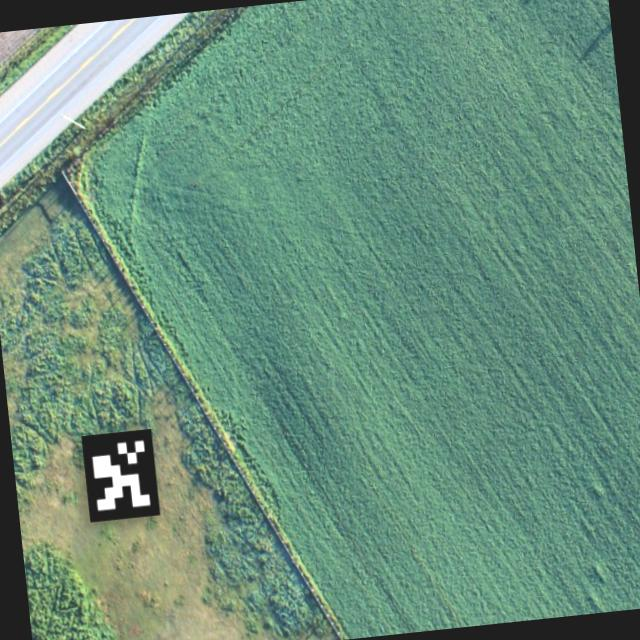marker: (66, 414, 169, 530)
